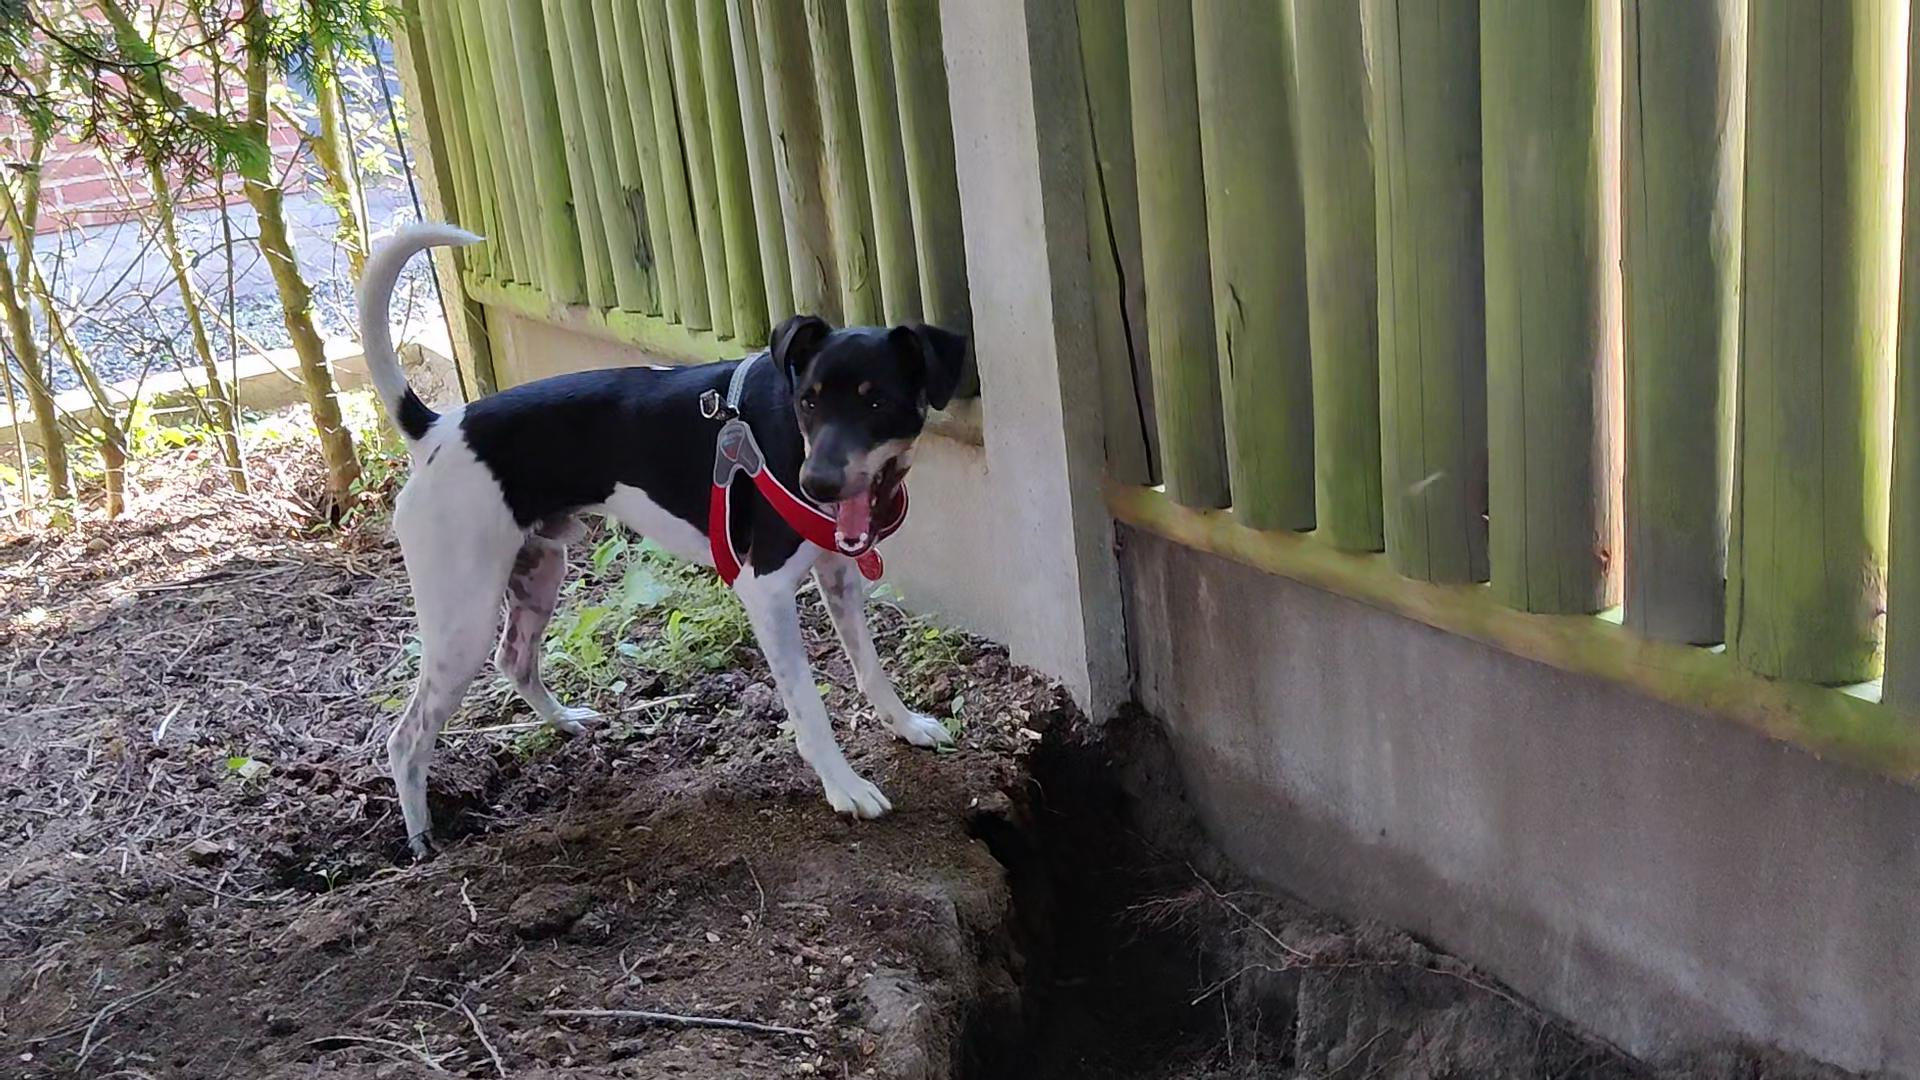Dog: (324, 175, 996, 880)
